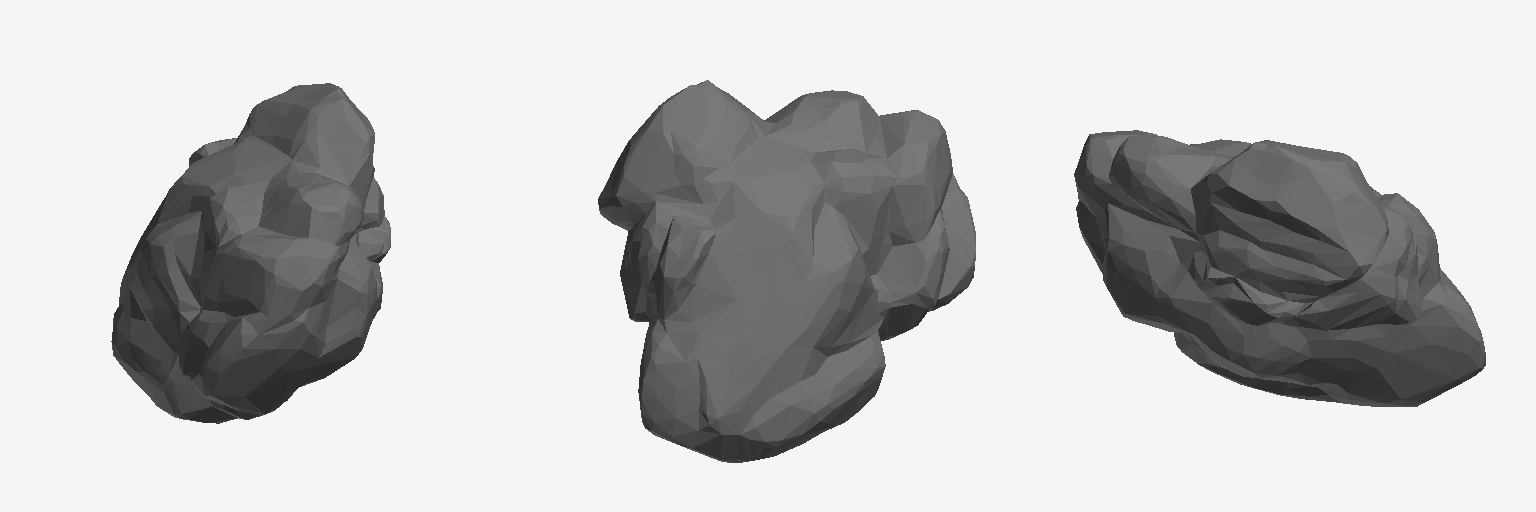
Rendered from asteroid.obj.
The picture shows the model from 3 angles: view 1: azimuth 30°, elevation 25°; view 2: azimuth 150°, elevation 25°; view 3: azimuth 270°, elevation 25°; orthographic projection.
Visible parts, largest first — view 1: Rock_LowPoly; view 2: Rock_LowPoly; view 3: Rock_LowPoly.
Boxes of the visible parts, <box> form: Rock_LowPoly: <box>111,83,390,423</box>; Rock_LowPoly: <box>598,80,975,462</box>; Rock_LowPoly: <box>1074,130,1485,406</box>.
Bounding box in the file's own units: 146 × 160 × 200.